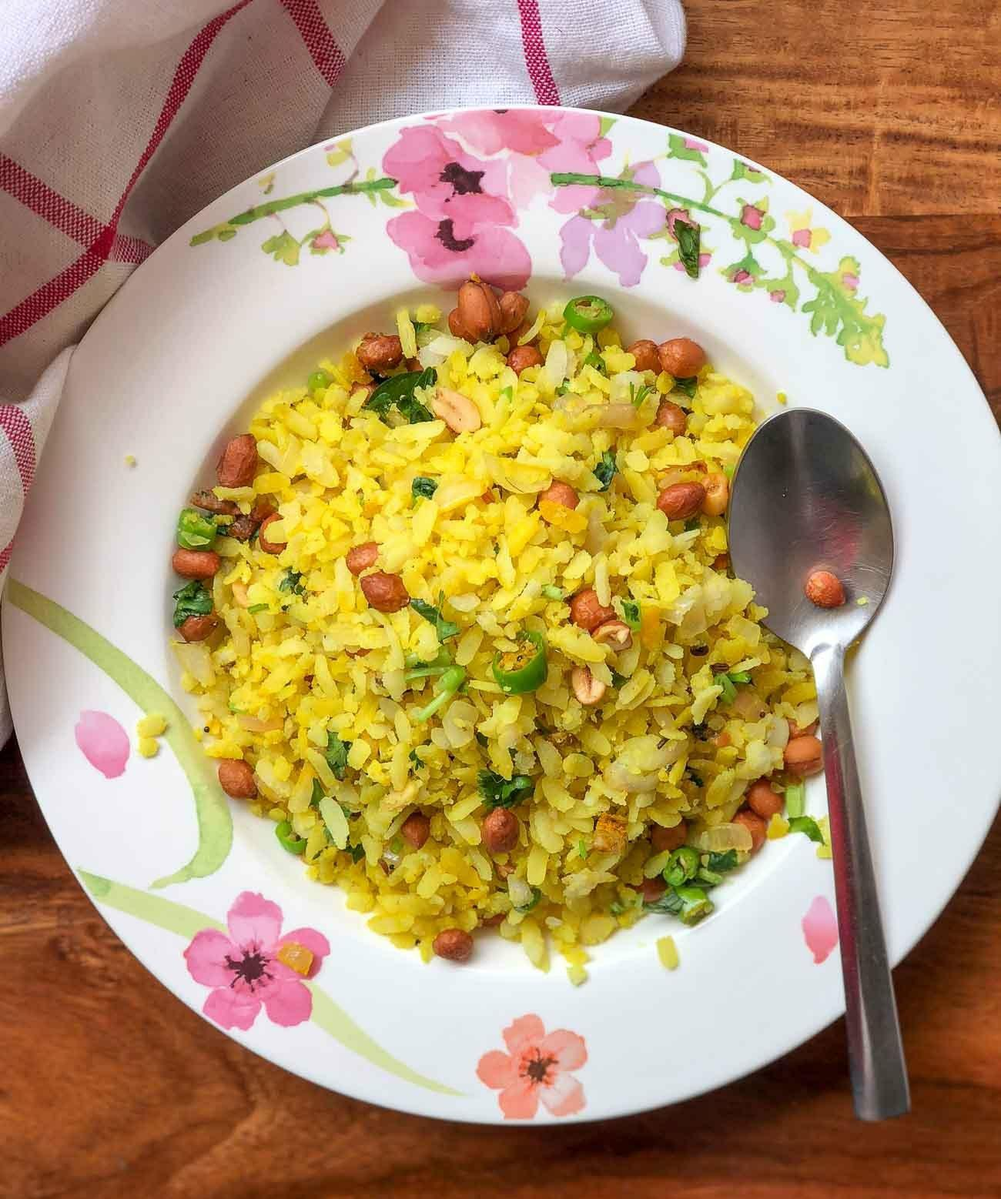Poha: (186, 272, 849, 956)
